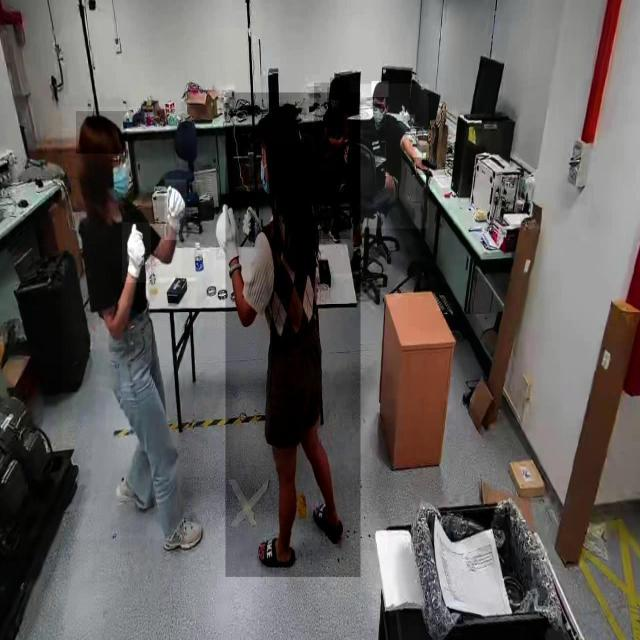face_mask: (111, 155, 134, 199), (256, 154, 276, 196), (327, 87, 341, 107), (374, 104, 384, 124)
hand_glove: (122, 222, 151, 283), (216, 200, 242, 260), (165, 180, 187, 240), (238, 203, 264, 249)
hand_noglove: (411, 157, 429, 176), (323, 115, 333, 128)
head_nohelmet: (76, 111, 128, 155), (255, 99, 303, 145), (371, 81, 389, 98), (330, 77, 342, 91)
person: (225, 92, 361, 578), (62, 106, 182, 540), (361, 84, 429, 230), (314, 83, 350, 239)
shoes: (158, 508, 206, 552), (113, 467, 153, 518)
